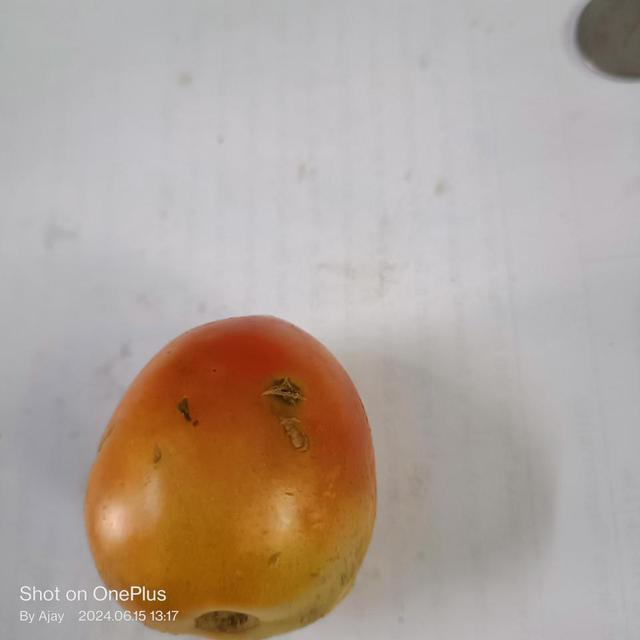Bacterial Spot Fruit: (13, 18, 193, 276)
